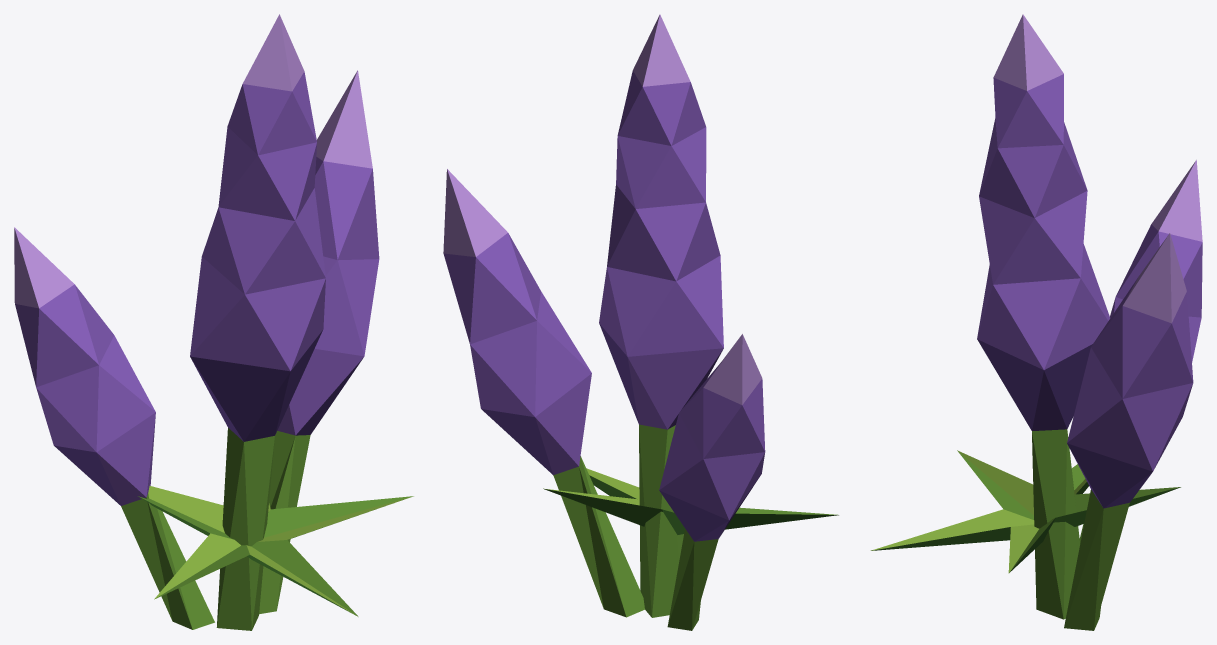
The model's file is flower_purple.glb.
3 views of the same model, side by side, from view 1: azimuth 30°, elevation 25°; view 2: azimuth 150°, elevation 25°; view 3: azimuth 270°, elevation 25° (orthographic). The views are drawn at different scales.
Visible parts, largest first — view 1: flower_purple; view 2: flower_purple; view 3: flower_purple.
Boxes of the visible parts, bbox=[...] form: flower_purple: bbox=[14, 14, 413, 630]; flower_purple: bbox=[443, 14, 838, 630]; flower_purple: bbox=[870, 14, 1202, 630].
Bounding box in the file's own units: 0.2835 × 0.5 × 0.2495.
